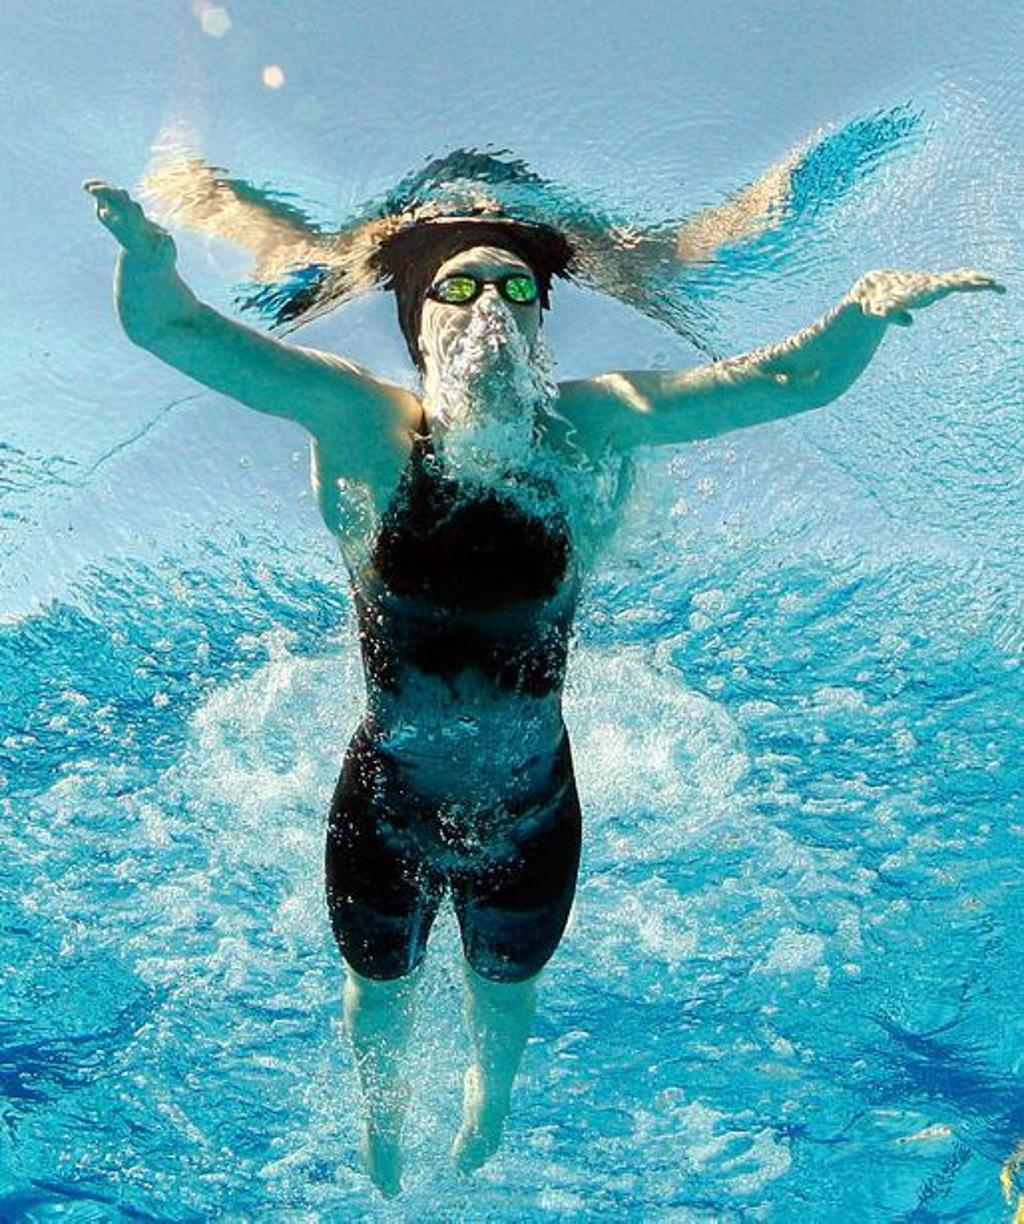face: (422, 241, 544, 384)
